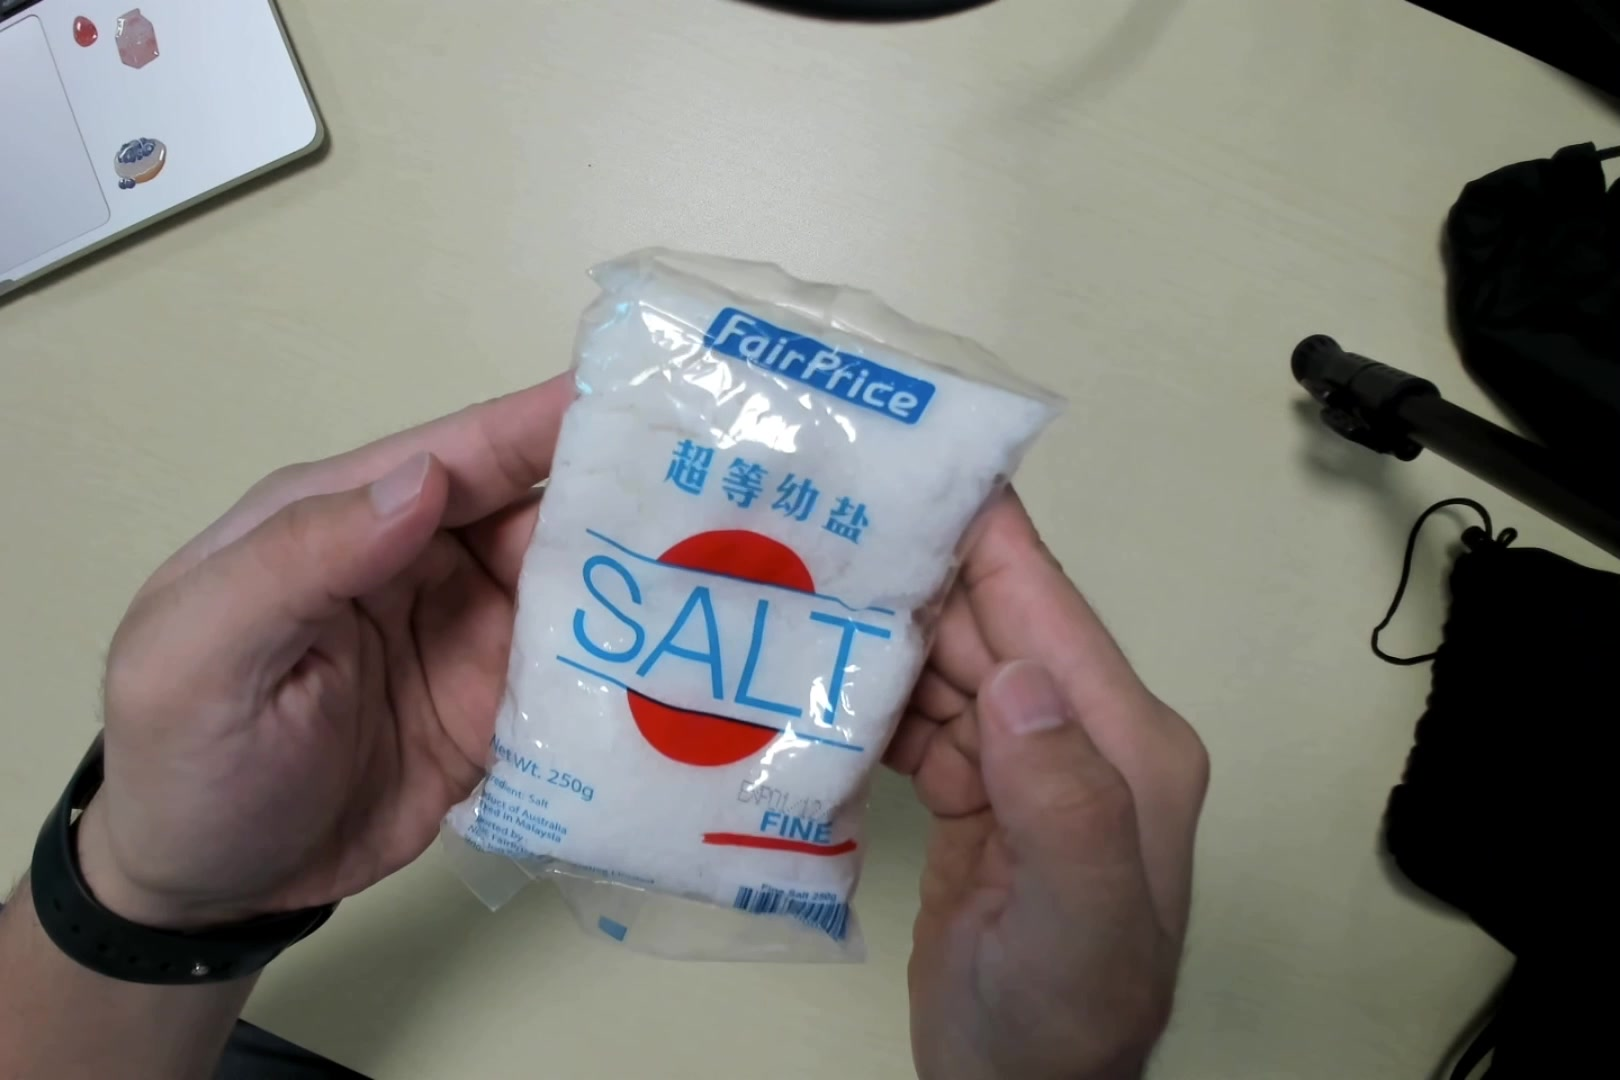Salt_200-299g_Halal_NonHealthy: (454, 258, 1023, 939)
